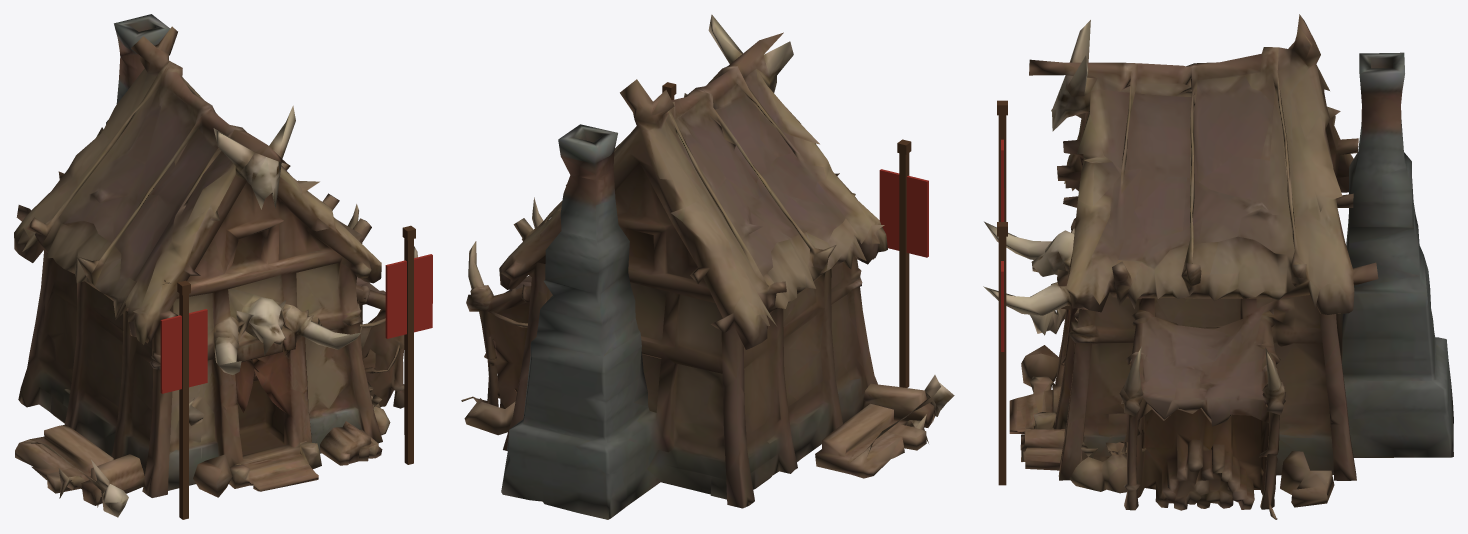
Rendered from hq_orc_1.glb.
The picture shows the model from 3 angles, left to right: view 1: azimuth 30°, elevation 25°; view 2: azimuth 150°, elevation 25°; view 3: azimuth 270°, elevation 25°; orthographic projection. The views are drawn at different scales.
Parts seen in each view (by area): view 1: Static_Mesh; view 2: Static_Mesh; view 3: Static_Mesh.
Boxes of the visible parts, x1,y1,x2,y2 form: Static_Mesh: (14,14,432,519); Static_Mesh: (461,14,954,519); Static_Mesh: (983,14,1453,519).
Size of the model in its own units: 8.63 by 8 by 8.49.
2 materials, 2 textured.
